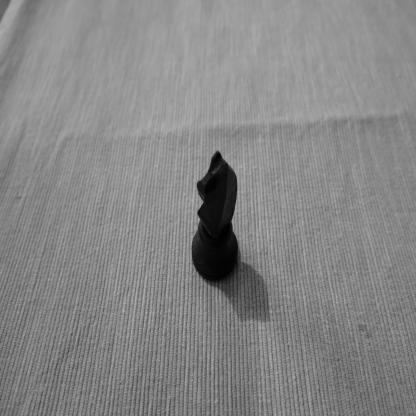black-knight: (190, 148, 240, 286)
